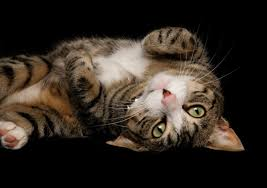Gato: (73, 36, 256, 157)
